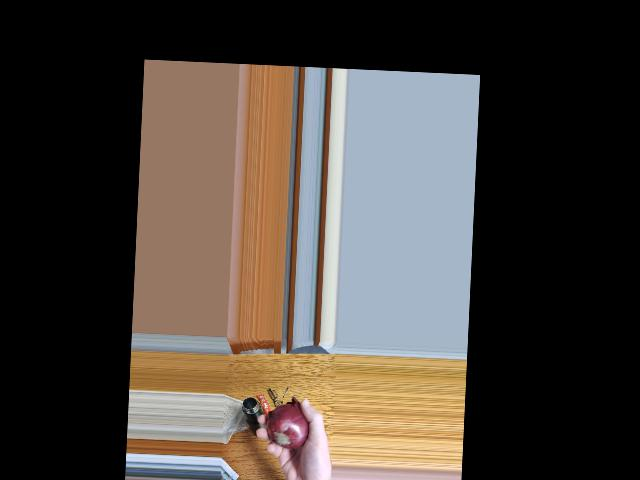onion: (267, 404, 309, 447)
